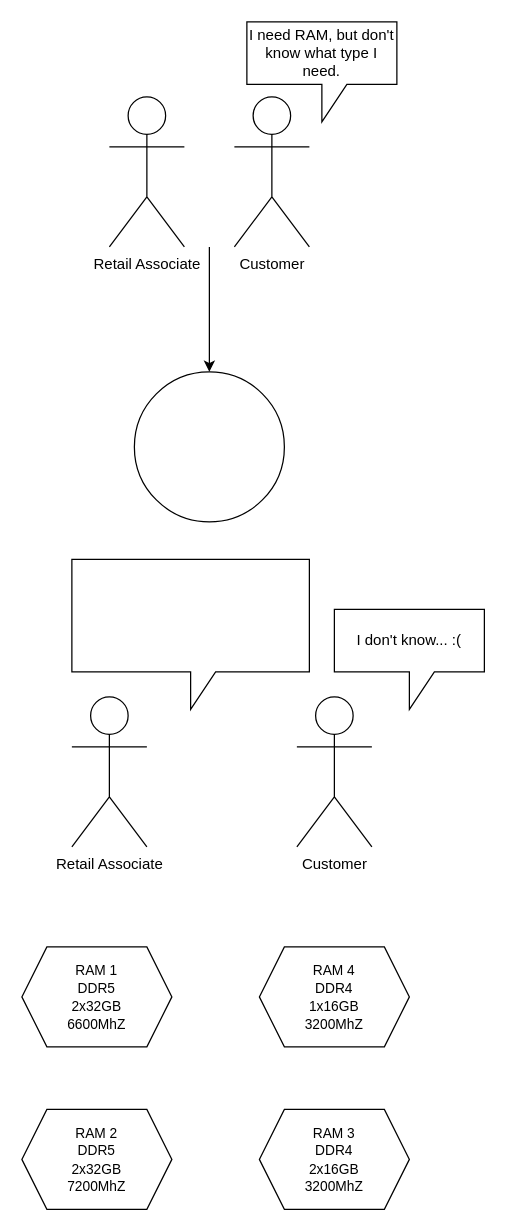
The diagram is 506 pixels wide and 1231 high, and some of its shapes have lost their labels. Each missing label, with the centre of its shape:
"Computer aisle [Ram Section]" belongs at pixel 208 446.
"What Motherboard do you have? What are you using it for? What's the budget?" belongs at pixel 190 633.
